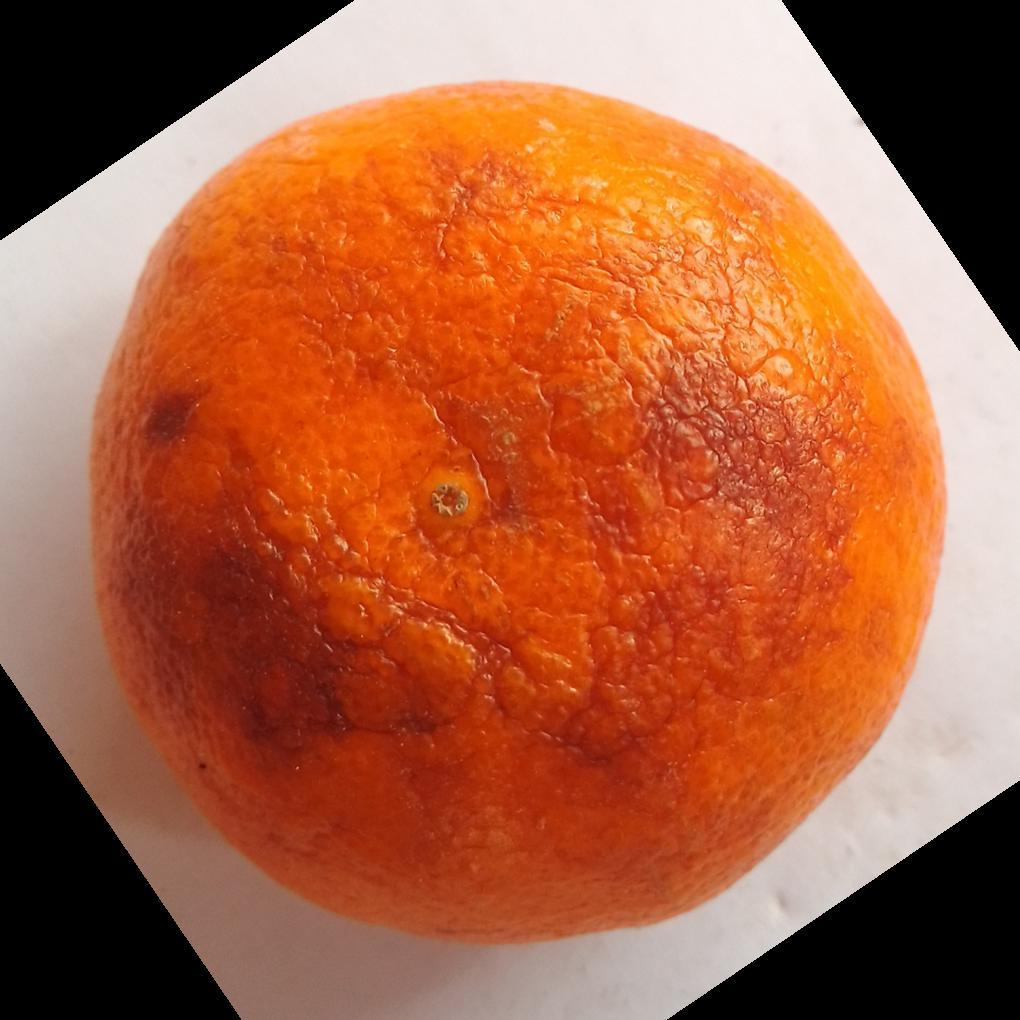FreshOrange: (85, 82, 948, 948)
